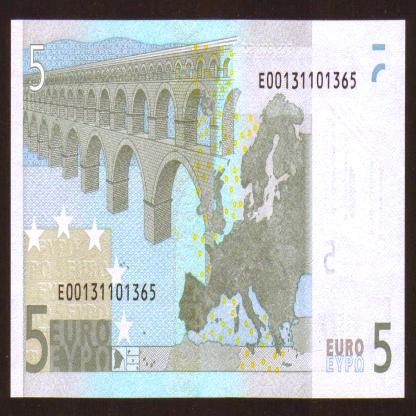euro_banknote: (11, 21, 404, 398)
